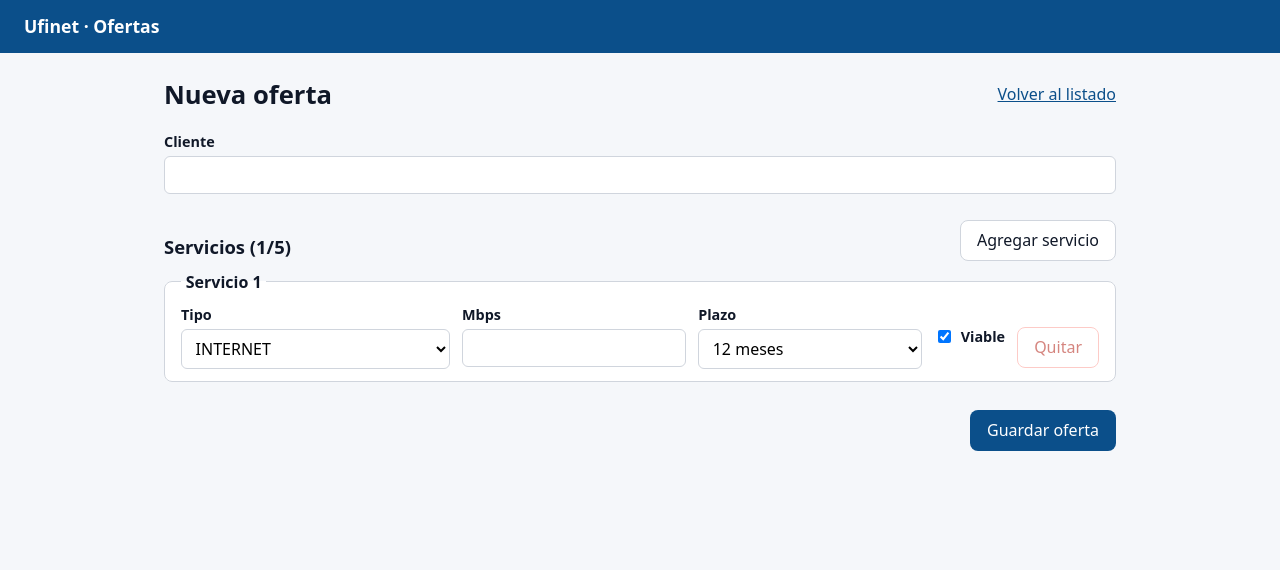
Nueva oferta (/offers/new) › muestra un mensaje si la API no responde al guardar
Type "Cliente Demo S.A." into the field labelled "Cliente" at (640, 175), box [164, 156, 1116, 194]
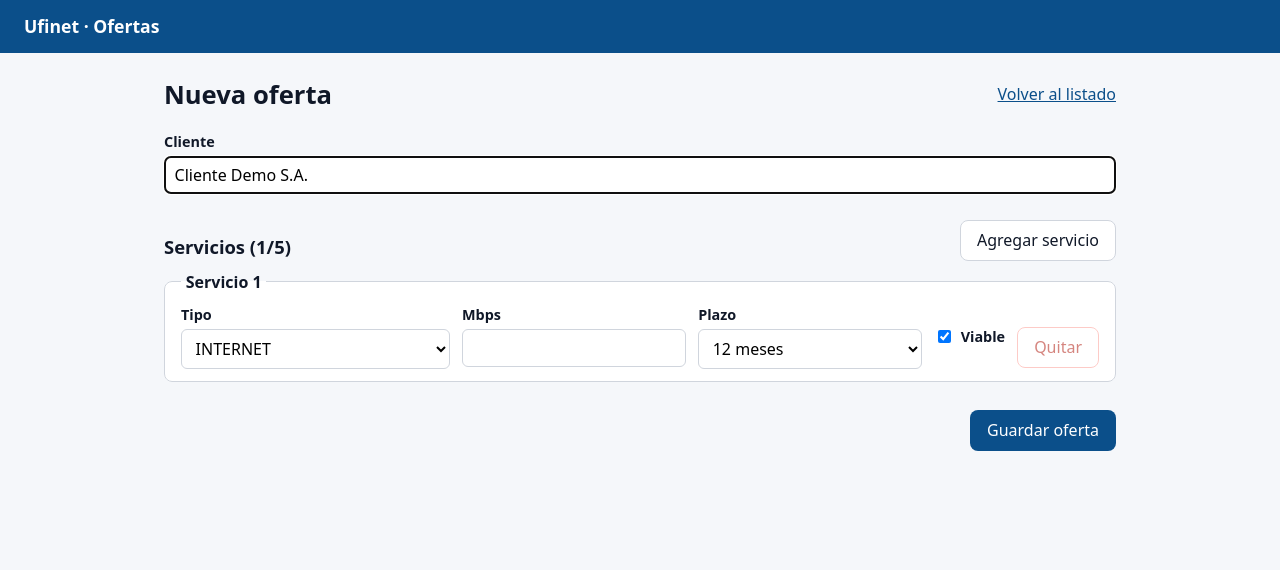
Type "100" into the number field labelled "Mbps" at (574, 348), box [462, 329, 686, 367]
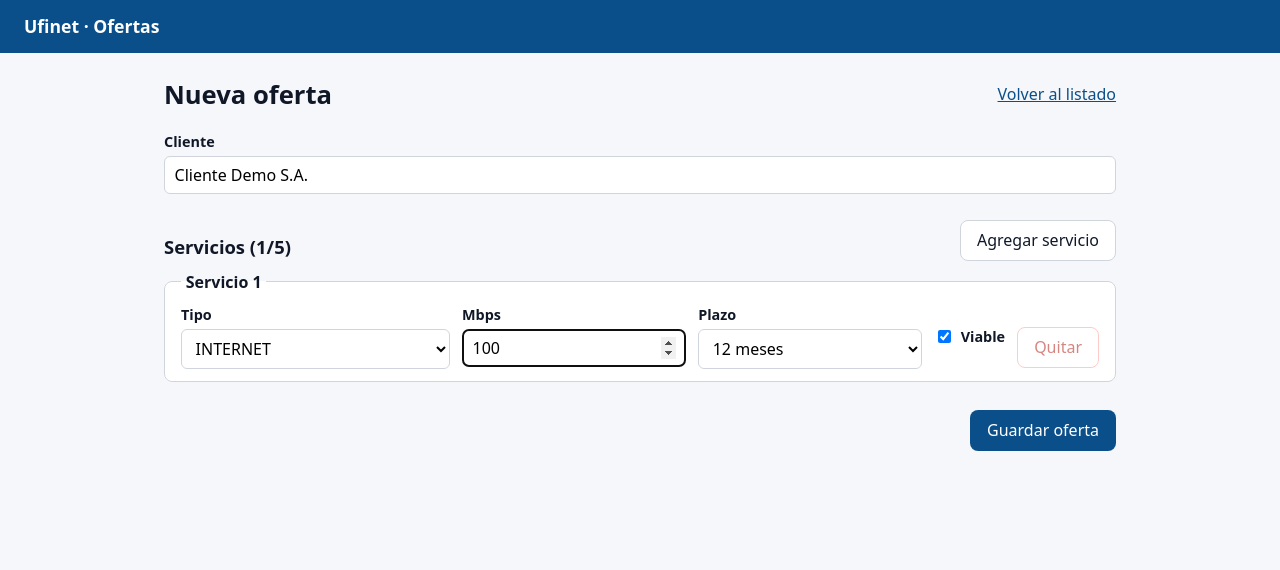
Select "36 meses" in the dropdown labelled "Plazo" at (810, 349), box [698, 329, 922, 369]
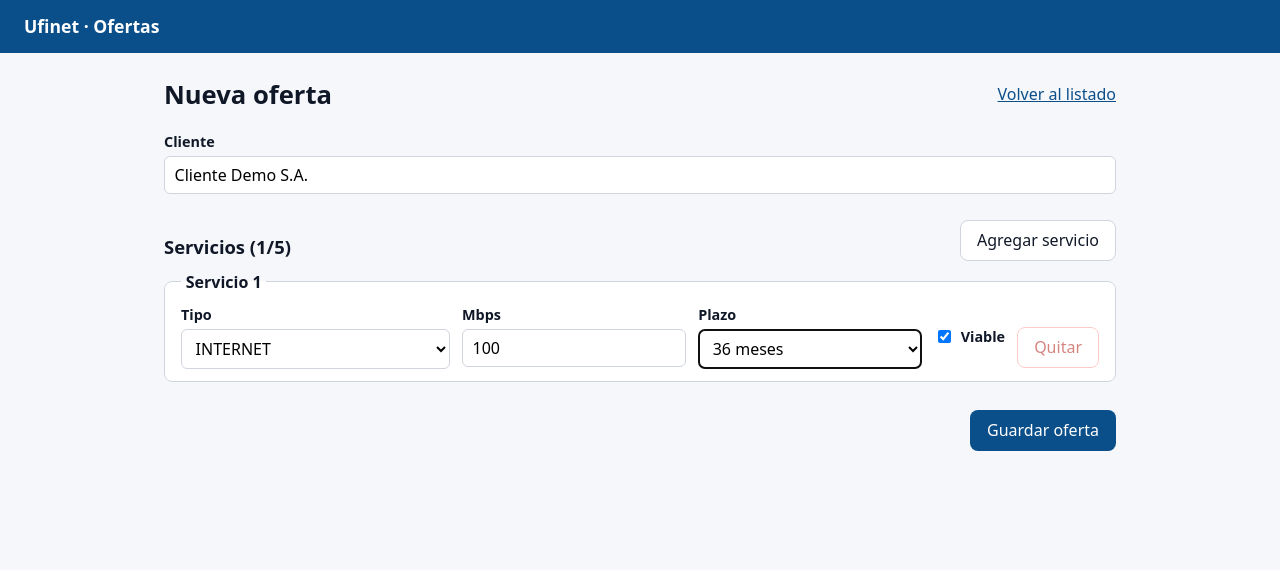
Click the button "Guardar oferta" at (1043, 430), box [970, 410, 1116, 450]
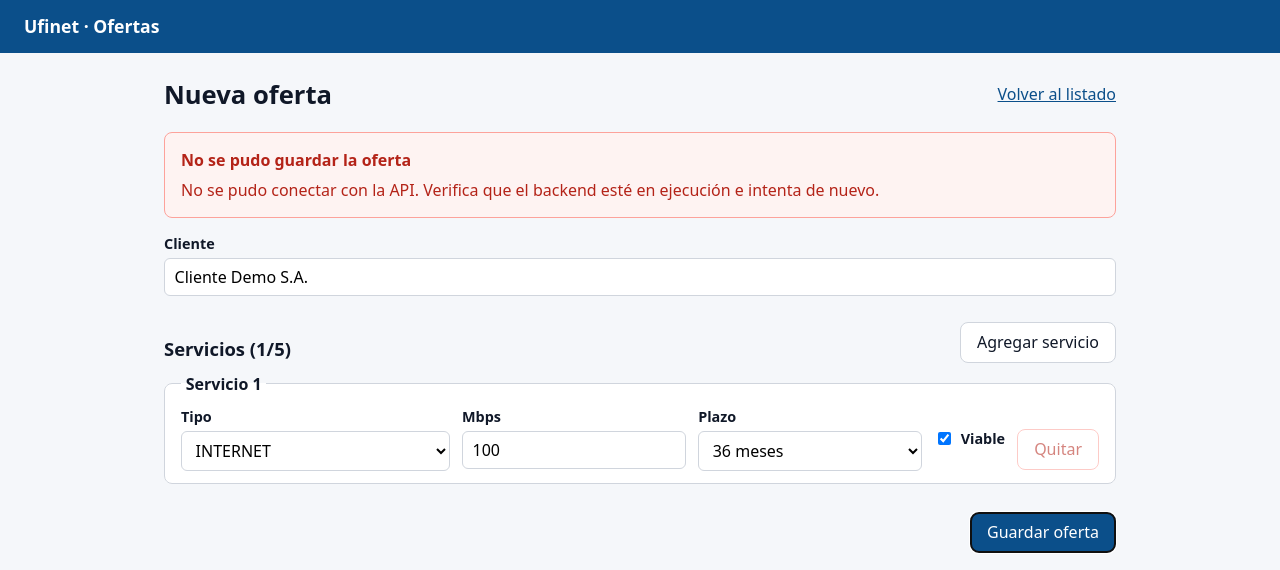
Expected: the button "Guardar oferta" is enabled, [970, 512, 1116, 552]
Now the text "No se pudo guardar la oferta" is shown, box [181, 149, 411, 171]
Now the text "No se pudo conectar con la API. Verifica que el backend esté en ejecución e intenta de nuevo." is shown, box [181, 179, 879, 201]
